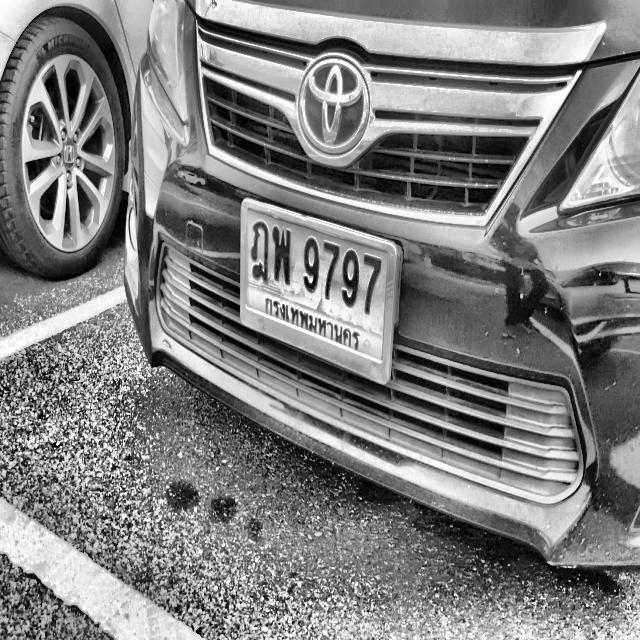license-plate: (238, 190, 402, 392)
